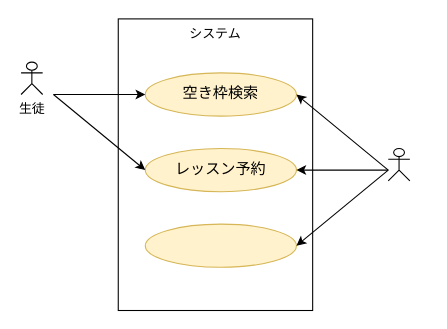
This 447x329 diagram has some shape labels left out. The shapes that lost their labels are listed below. From the top down, each one's centre as x and y in pixels, then its label:
At point 398,164: "スタッフ ・講師".
At point 220,245: "レッスン枠登録".
